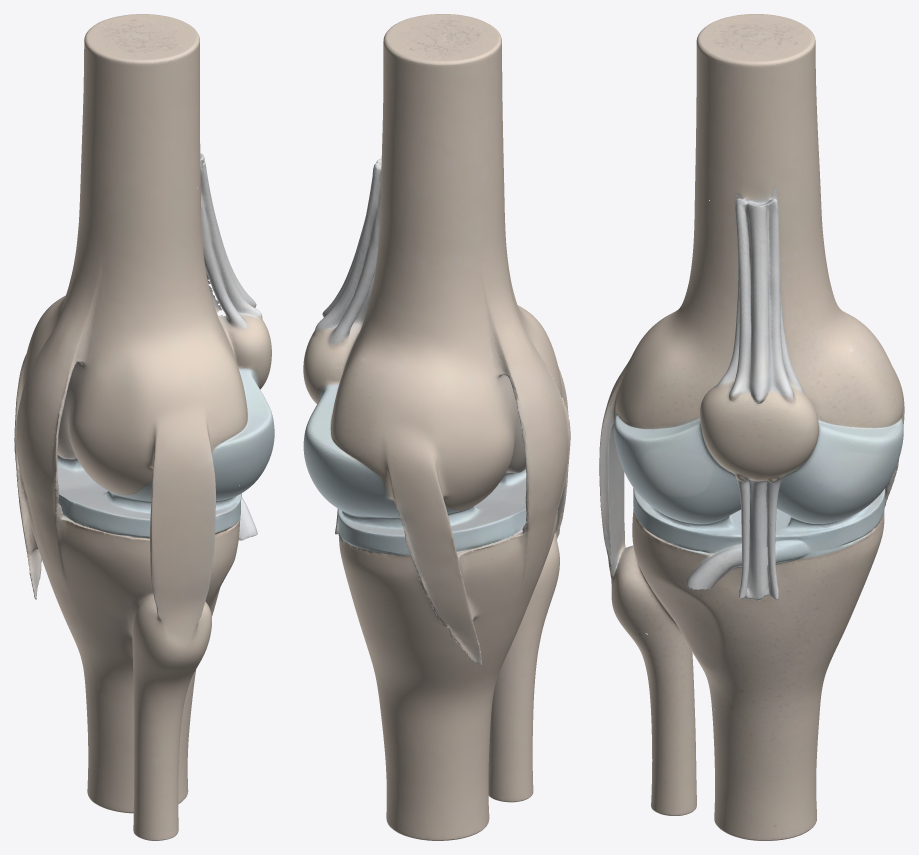
File: joint_structure.glb
3 renders of one model, left to right at view 1: azimuth 30°, elevation 25°; view 2: azimuth 150°, elevation 25°; view 3: azimuth 270°, elevation 25°, orthographic. The views are drawn at different scales.
Visible parts, largest first — view 1: tripo_node_6dfcf579-1178-4c96-a6d8-d5310e652a6d; view 2: tripo_node_6dfcf579-1178-4c96-a6d8-d5310e652a6d; view 3: tripo_node_6dfcf579-1178-4c96-a6d8-d5310e652a6d.
Boxes of the visible parts, left/top/right/bottom form: tripo_node_6dfcf579-1178-4c96-a6d8-d5310e652a6d: left=14, top=14, right=274, bottom=840; tripo_node_6dfcf579-1178-4c96-a6d8-d5310e652a6d: left=303, top=14, right=570, bottom=840; tripo_node_6dfcf579-1178-4c96-a6d8-d5310e652a6d: left=599, top=14, right=904, bottom=840.
Size of the model in its own units: 0.3194 by 1 by 0.3538.
1 material, 1 textured.
